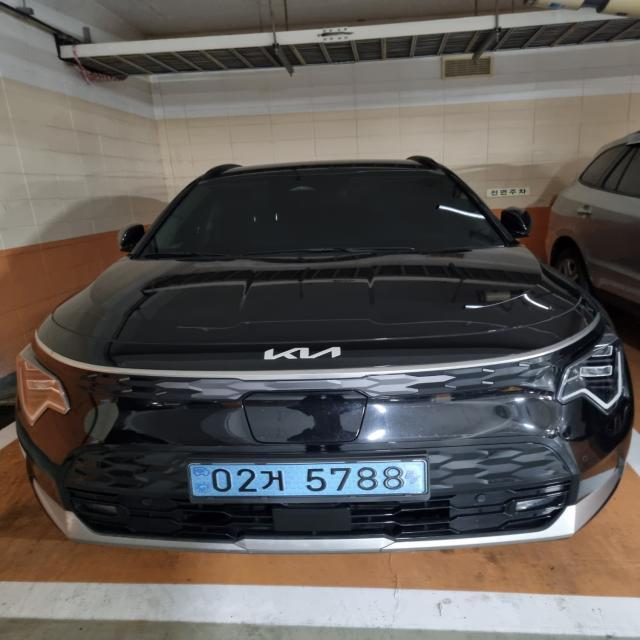car: (180, 452, 444, 512)
carev: (189, 461, 214, 505), (402, 460, 426, 501)
